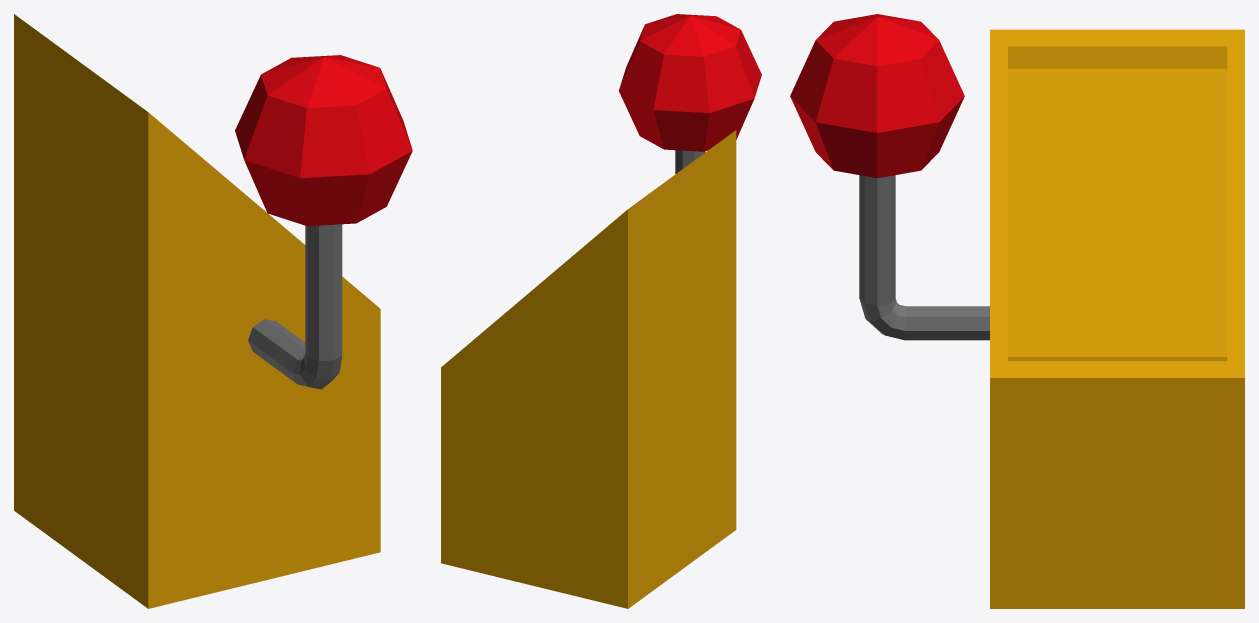
File: SlotMachine.fbx
3 renders of one model, left to right at view 1: azimuth 30°, elevation 25°; view 2: azimuth 150°, elevation 25°; view 3: azimuth 270°, elevation 25°, orthographic. The views are drawn at different scales.
Parts seen in each view (by area): view 1: Cube, Sphere, Cylinder; view 2: Cube, Sphere; view 3: Cube, Sphere, Cylinder.
Boxes of the visible parts, bbox=[...] form: Cube: bbox=[14, 14, 380, 608]; Sphere: bbox=[235, 55, 412, 226]; Cylinder: bbox=[248, 224, 342, 389]; Cube: bbox=[441, 130, 736, 608]; Sphere: bbox=[619, 14, 761, 151]; Cube: bbox=[990, 29, 1244, 608]; Sphere: bbox=[790, 14, 964, 178]; Cylinder: bbox=[859, 175, 989, 340].
Bounding box in the file's own units: 5.2 × 6.79 × 2.91.
